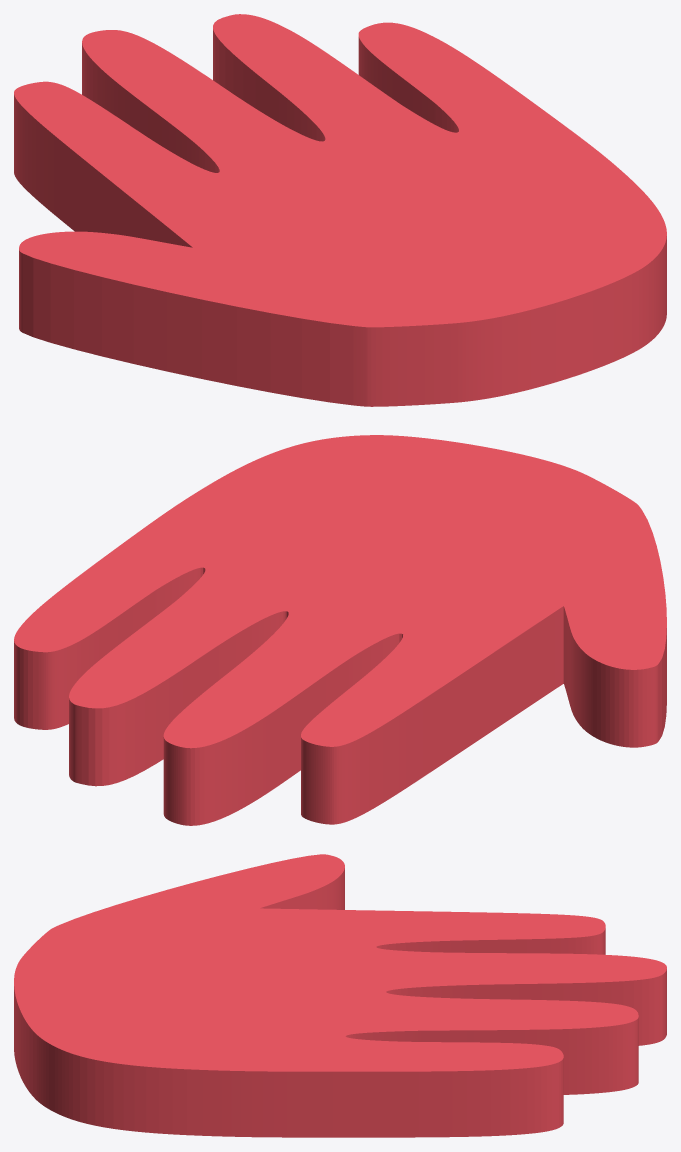
File: paper.fbx
3 views of the same model, one above another, from view 1: azimuth 30°, elevation 25°; view 2: azimuth 150°, elevation 25°; view 3: azimuth 270°, elevation 25° (orthographic). The views are drawn at different scales.
Visible parts, largest first — view 1: Curve; view 2: Curve; view 3: Curve.
Part boxes in pixels (<box>): Curve: <box>14,14,666,406</box>; Curve: <box>14,435,666,825</box>; Curve: <box>14,854,666,1137</box>.
Size of the model in its own units: 18.79 by 2.65 by 23.85.
